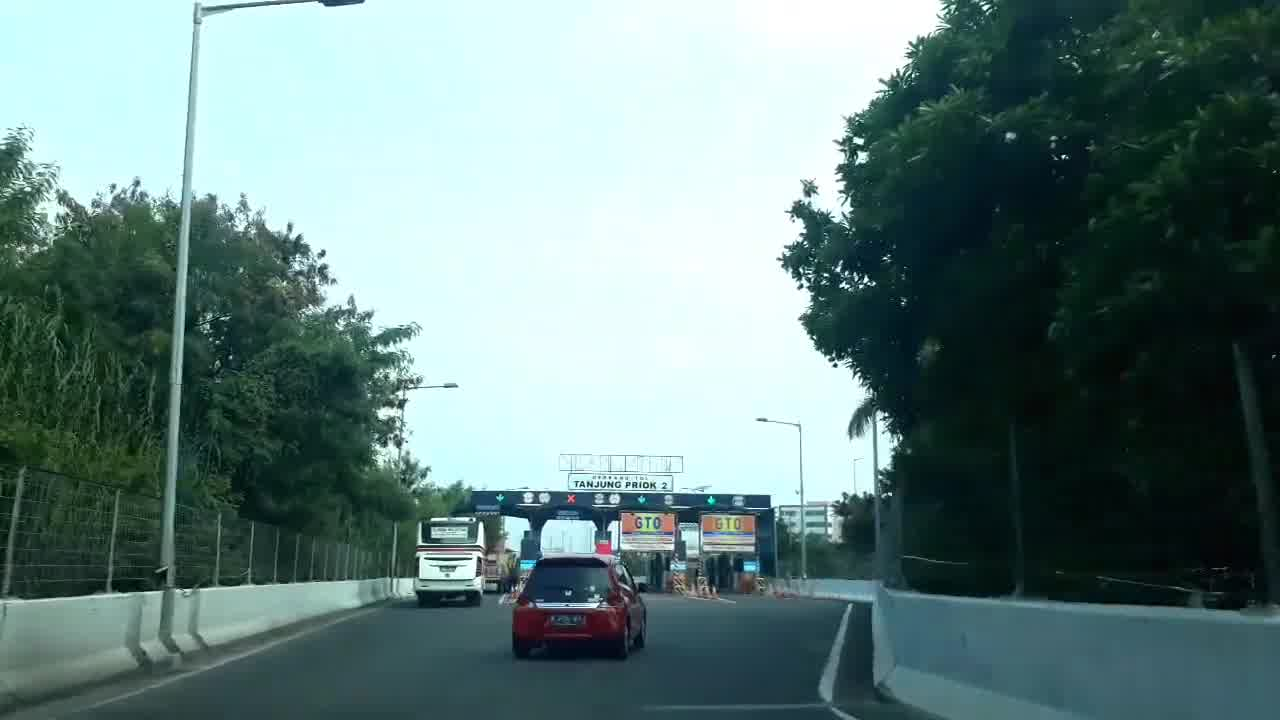plate_positive: (549, 614, 584, 627)
